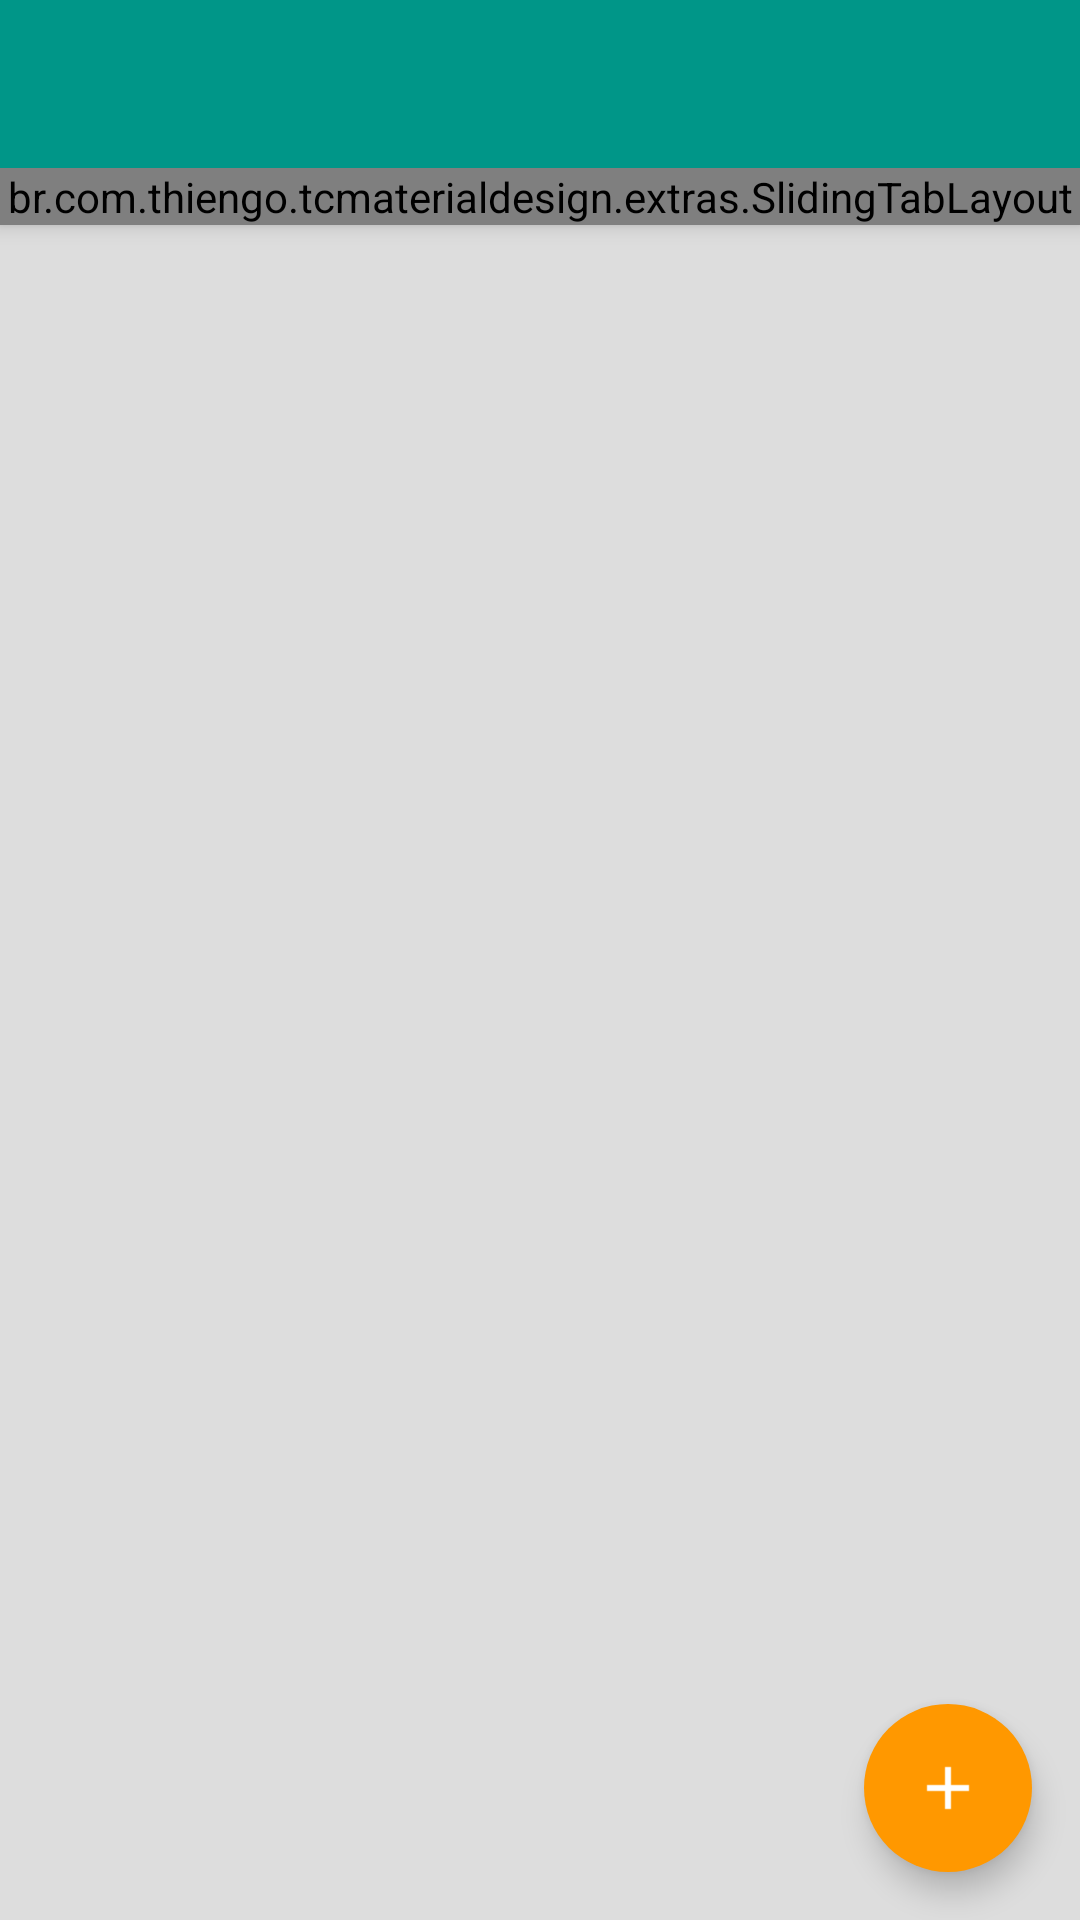

Point at icon controls on the screen. Image size 1080w x 1920h, points as point (x, y).
plus: point (948, 1788)
